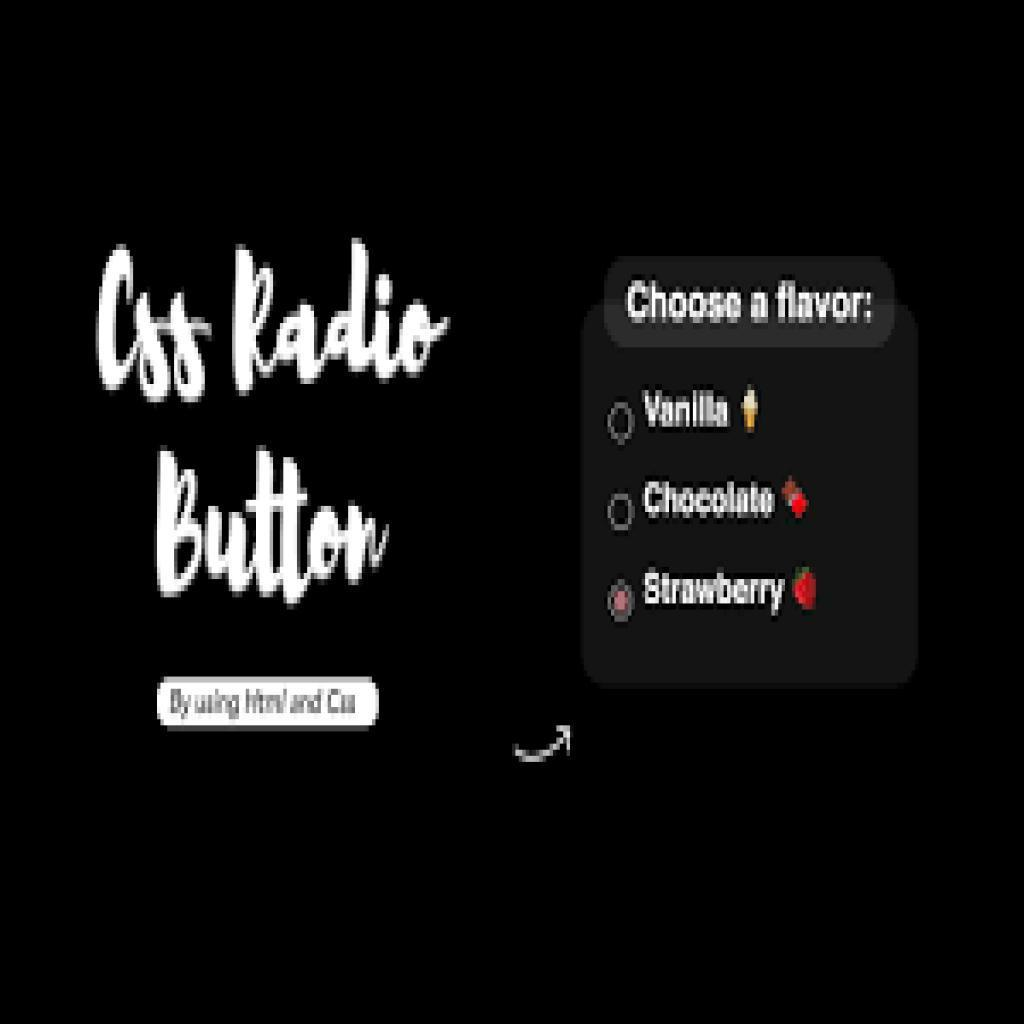button: (157, 680, 376, 726)
label: (645, 566, 826, 617), (645, 481, 811, 528), (643, 390, 765, 433)
radio: (606, 577, 640, 625), (605, 490, 636, 539), (611, 399, 635, 455)
